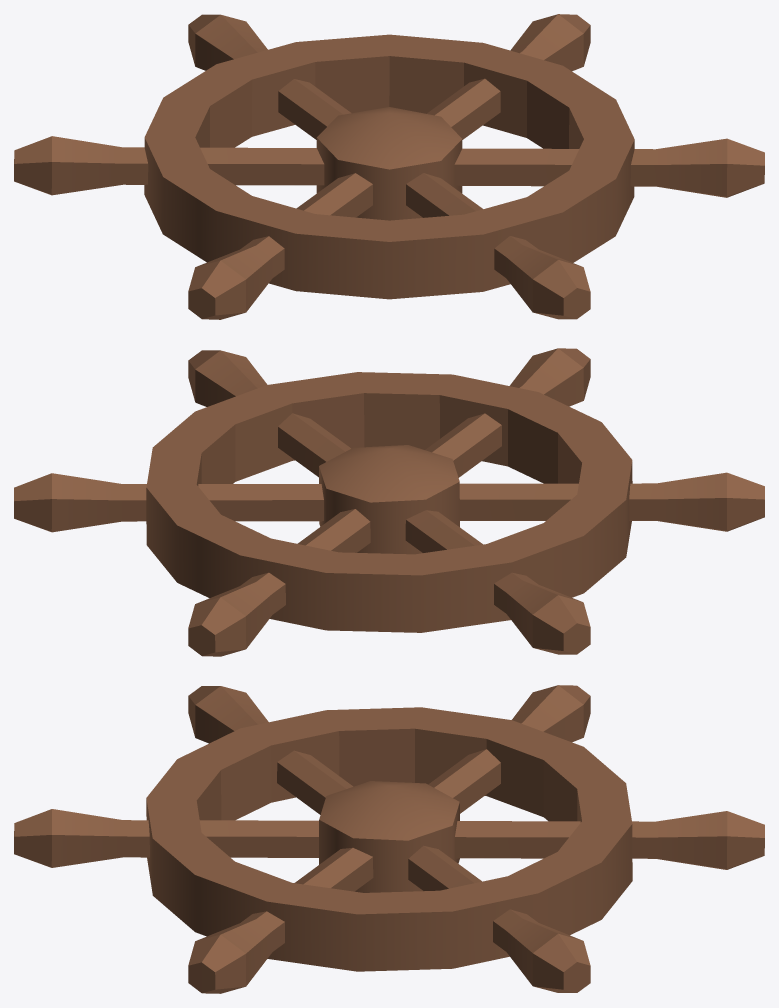
File: Wheel.fbx
The picture shows the model from 3 angles, top to bottom: view 1: azimuth 30°, elevation 25°; view 2: azimuth 150°, elevation 25°; view 3: azimuth 270°, elevation 25°; orthographic projection.
Parts seen in each view (by area): view 1: Damage3; view 2: Damage3; view 3: Damage3.
Part boxes in pixels (box(x1,y1,x2,y2)): Damage3: box(14, 14, 764, 319); Damage3: box(14, 348, 764, 656); Damage3: box(14, 685, 764, 993).
Bounding box in the file's own units: 33.43 × 5.94 × 37.71.
Materials: 1 (1 with a texture image).
